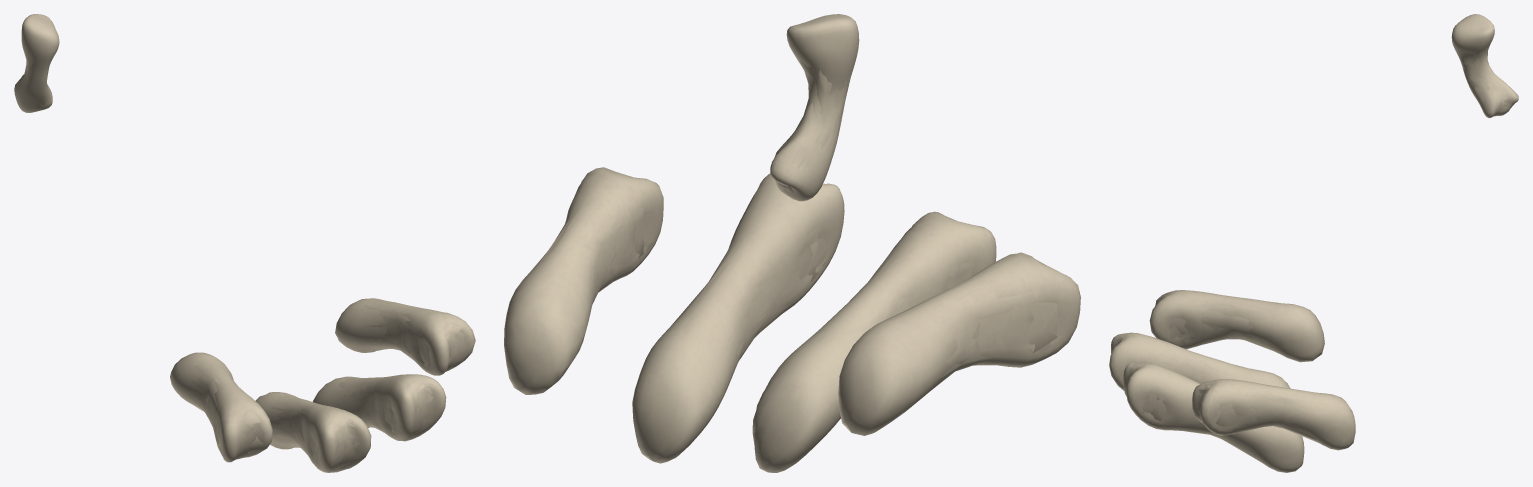
File: FL 1st Phalanx.fbx
3 views of the same model, side by side, from view 1: azimuth 30°, elevation 25°; view 2: azimuth 150°, elevation 25°; view 3: azimuth 270°, elevation 25° (orthographic). The views are drawn at different scales.
Parts seen in each view (by area): view 1: FL 1st Phalanx high, FL 1st Phalanx low, FL 1st Phalanx; view 2: FL 1st Phalanx high, FL 1st Phalanx, FL 1st Phalanx low; view 3: FL 1st Phalanx high, FL 1st Phalanx, FL 1st Phalanx low.
Part boxes in pixels (<box>): FL 1st Phalanx high: <box>14,14,475,472</box>; FL 1st Phalanx low: <box>17,58,461,468</box>; FL 1st Phalanx: <box>16,20,467,468</box>; FL 1st Phalanx high: <box>504,14,1080,472</box>; FL 1st Phalanx: <box>508,60,1057,407</box>; FL 1st Phalanx low: <box>560,66,1057,390</box>; FL 1st Phalanx high: <box>1109,14,1518,472</box>; FL 1st Phalanx: <box>1118,28,1511,461</box>; FL 1st Phalanx low: <box>1114,51,1513,457</box>.
Size of the model in its own units: 9.04 by 10.98 by 11.28.
